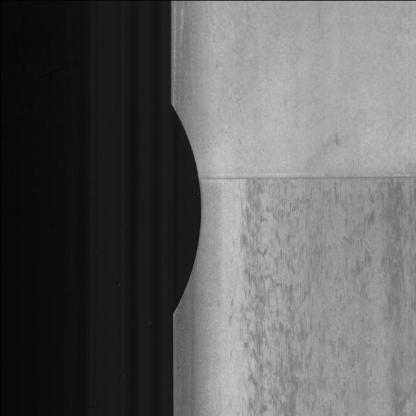crescent_gap: (154, 93, 207, 322)
welding_line: (192, 156, 416, 196)
